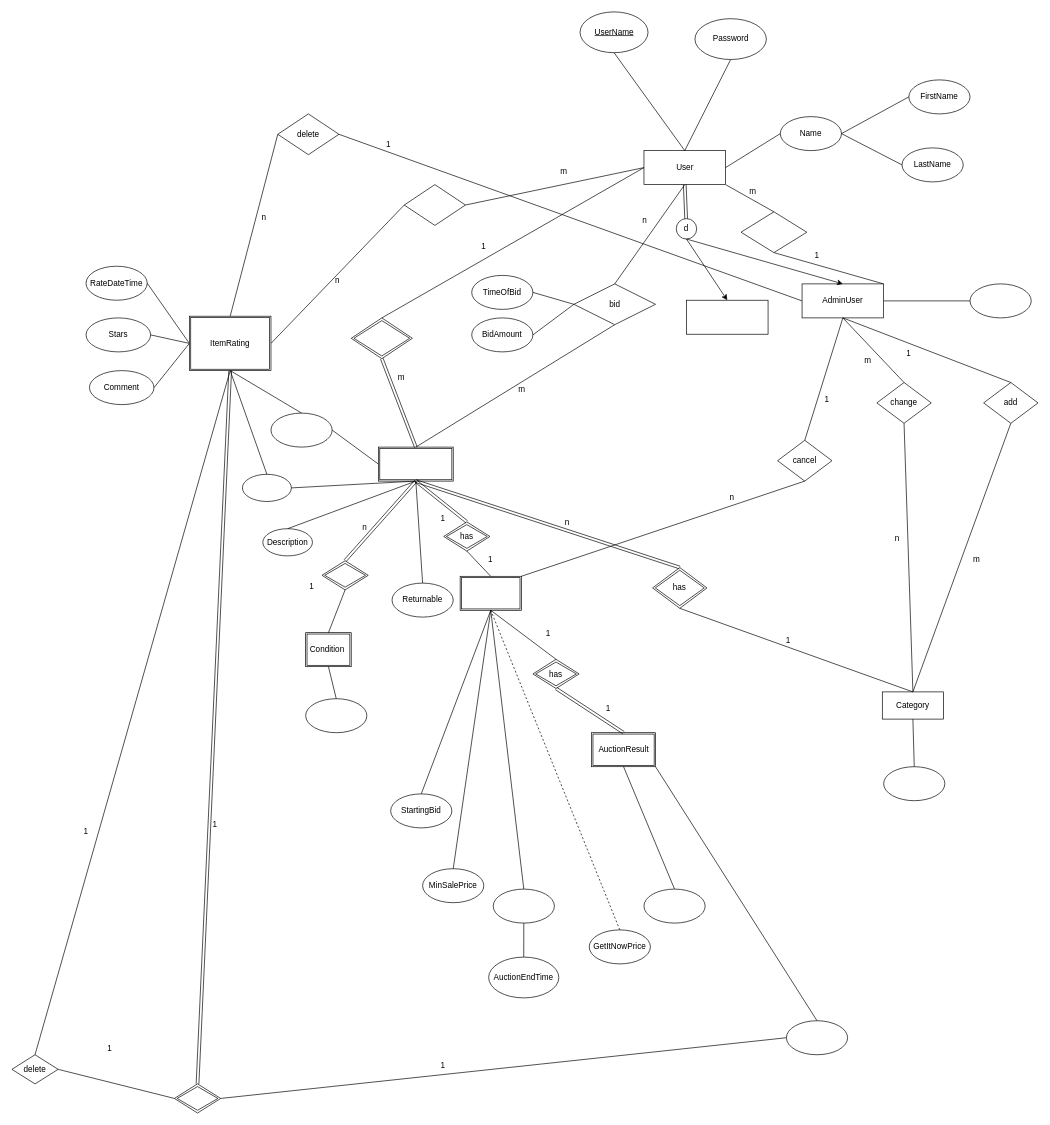
Image size: 1050x1125. Some labels were removed from this diagram. The centre of each missing label's shape, as x and y in pixels:
ask: the point at 773,232
Auction: the point at 490,593
AuctionLength: the point at 523,905
CategoryName: the point at 914,783
ConditionName: the point at 336,715
enter: the point at 197,1098
HighBidder: the point at 817,1037
is: the point at 344,575
Item: the point at 415,463
ItemID: the point at 301,429
ItemName: the point at 266,488
list: the point at 381,338
Position: the point at 1000,300
RegularUser: the point at 727,317
SalePrice: the point at 674,905
view: the point at 434,204
